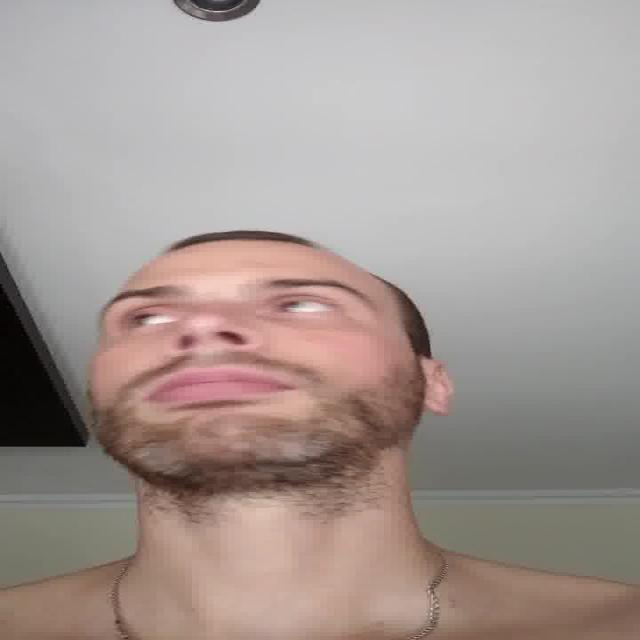earlobe: (422, 399, 453, 418)
eye: (270, 297, 344, 315), (124, 312, 177, 330)
nose: (170, 336, 260, 372)
wholeear: (422, 359, 453, 419)
